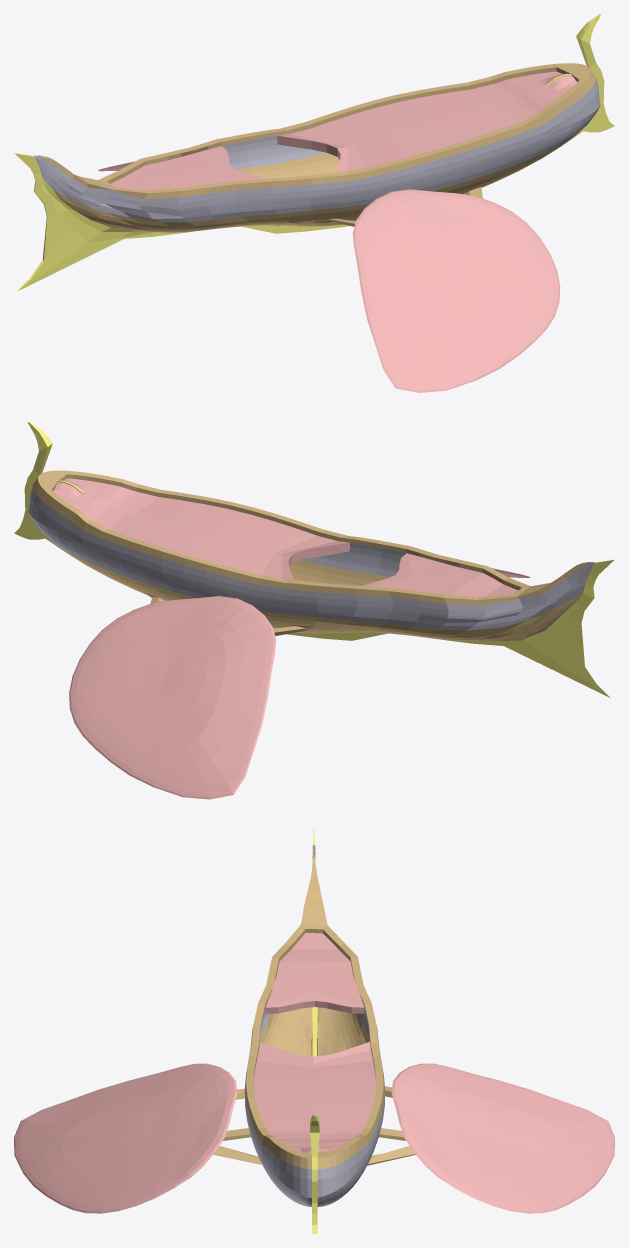
File: airship3.glb
3 renders of one model, top to bottom at view 1: azimuth 30°, elevation 25°; view 2: azimuth 150°, elevation 25°; view 3: azimuth 270°, elevation 25°, orthographic.
Parts seen in each view (by area): view 1: Sphere; view 2: Sphere; view 3: Sphere.
Boxes of the visible parts, x1,y1,x2,y2 form: Sphere: (14,14,614,392); Sphere: (14,421,614,799); Sphere: (14,828,614,1233).
Size of the model in its own units: 10.71 by 3.35 by 9.42.
